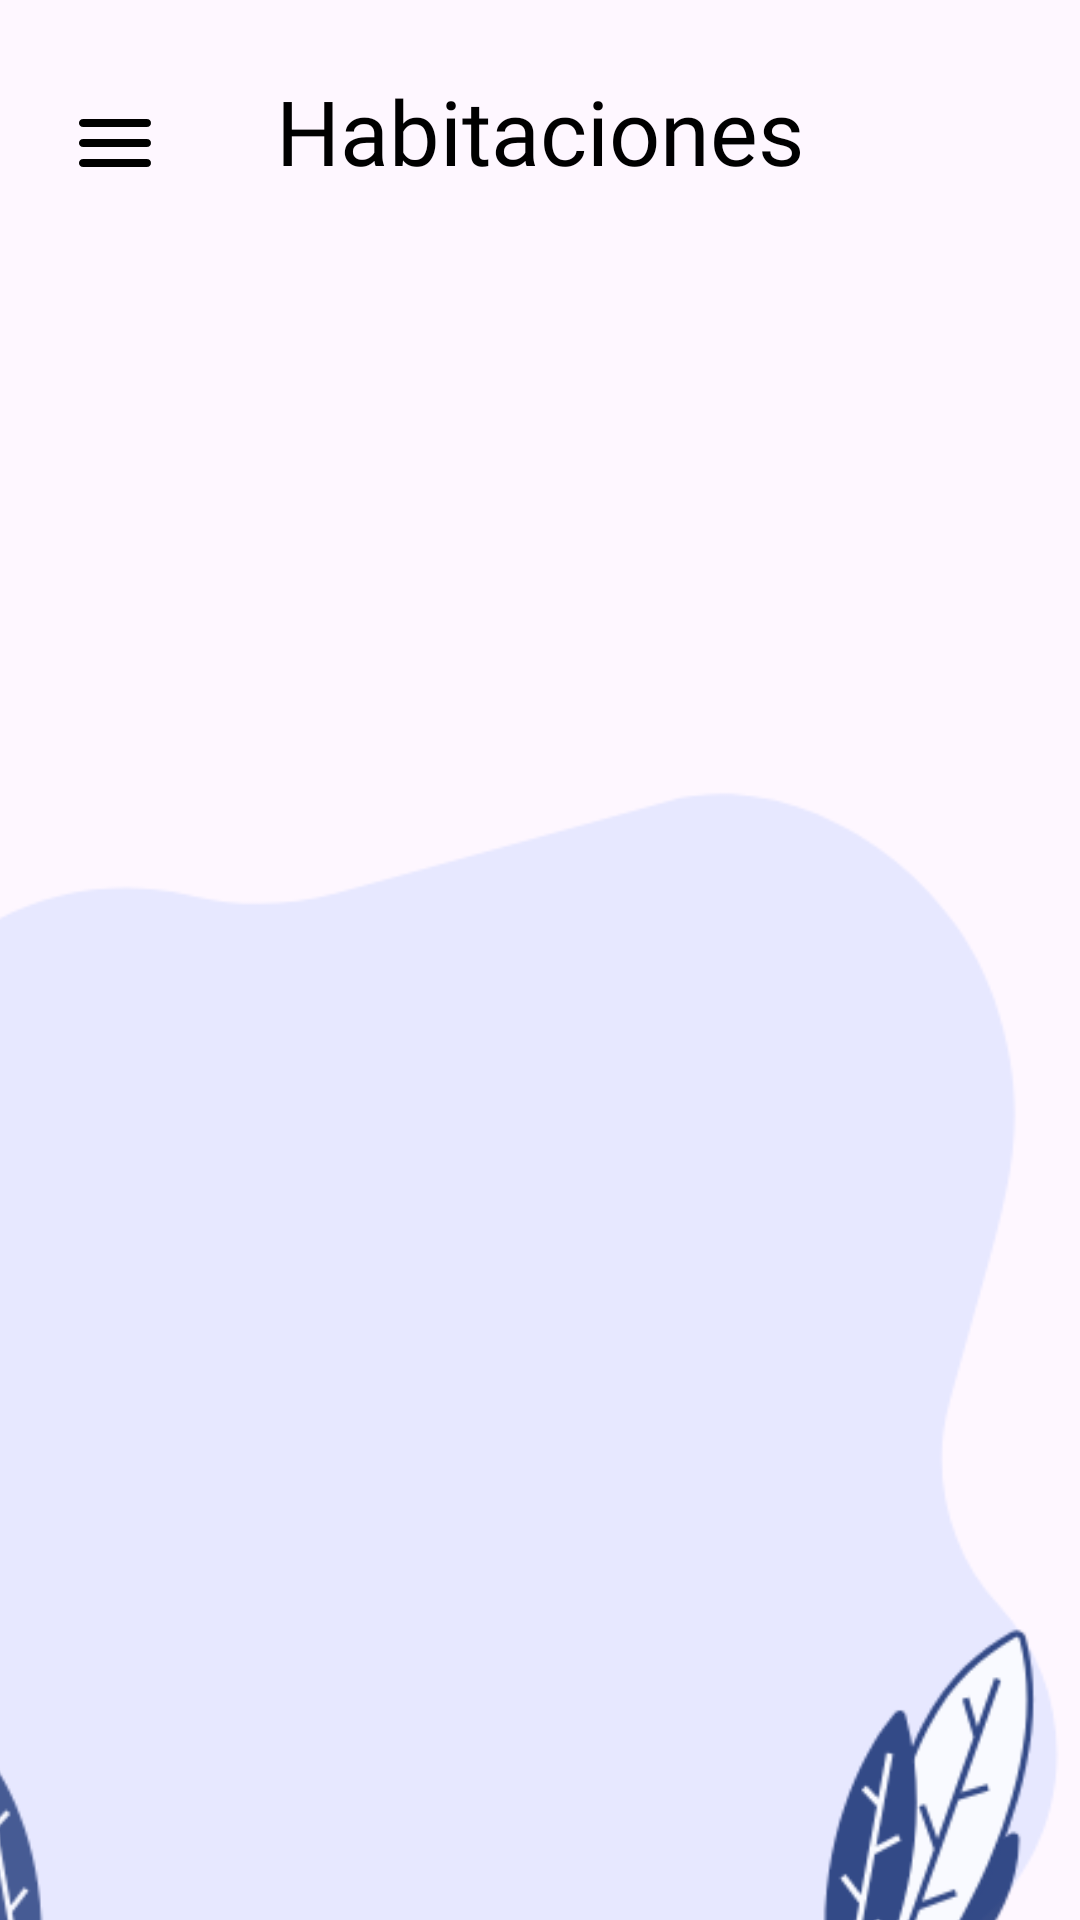

Screen size 1080 x 1920. Icon name, then its center in pixels as (x,y):
menu: (115,143)
